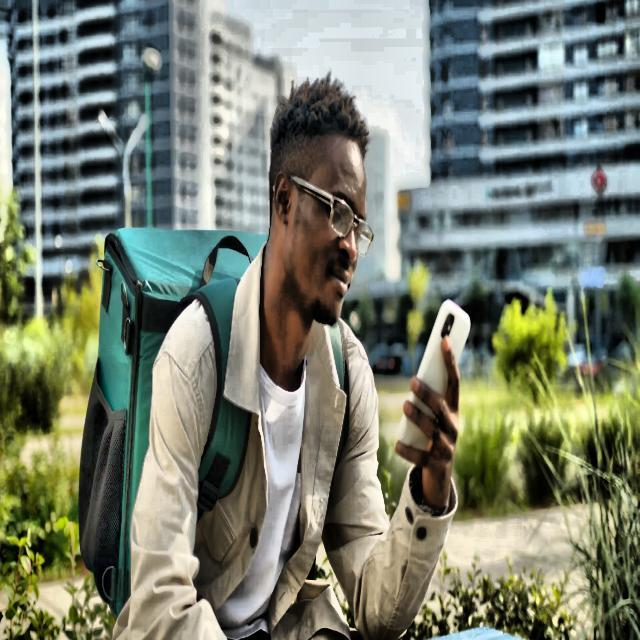Phone: (398, 298, 471, 454)
